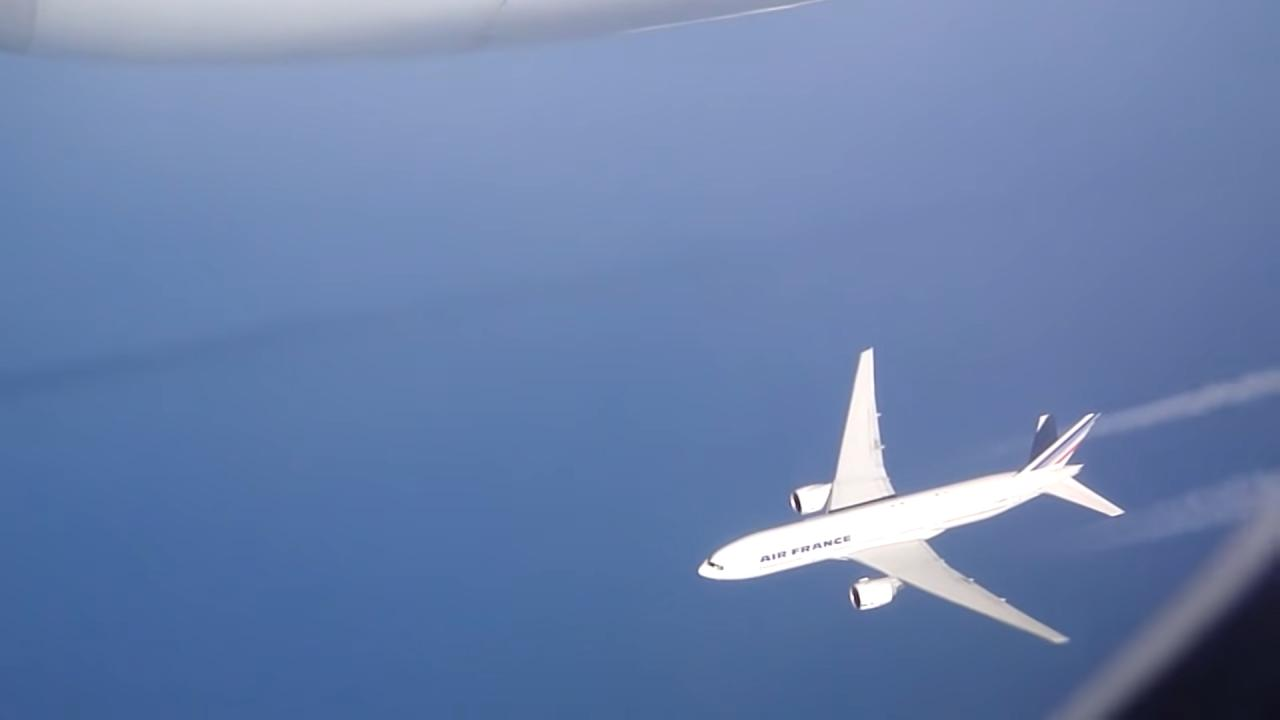Airplane: (687, 338, 1135, 654)
